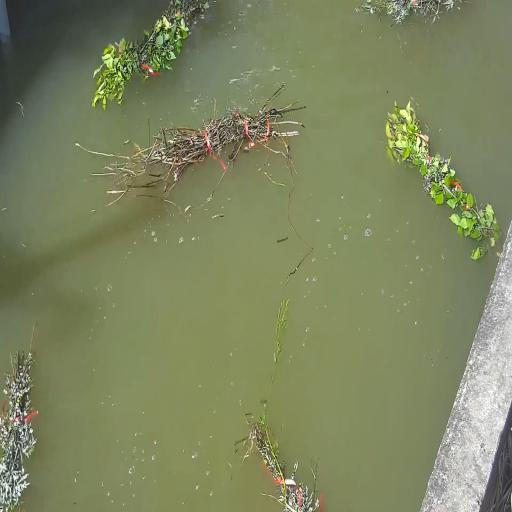twig: (98, 85, 305, 204), (385, 102, 499, 245), (92, 0, 207, 110), (244, 410, 322, 512), (0, 351, 38, 512), (361, 0, 463, 23), (269, 300, 288, 392)
